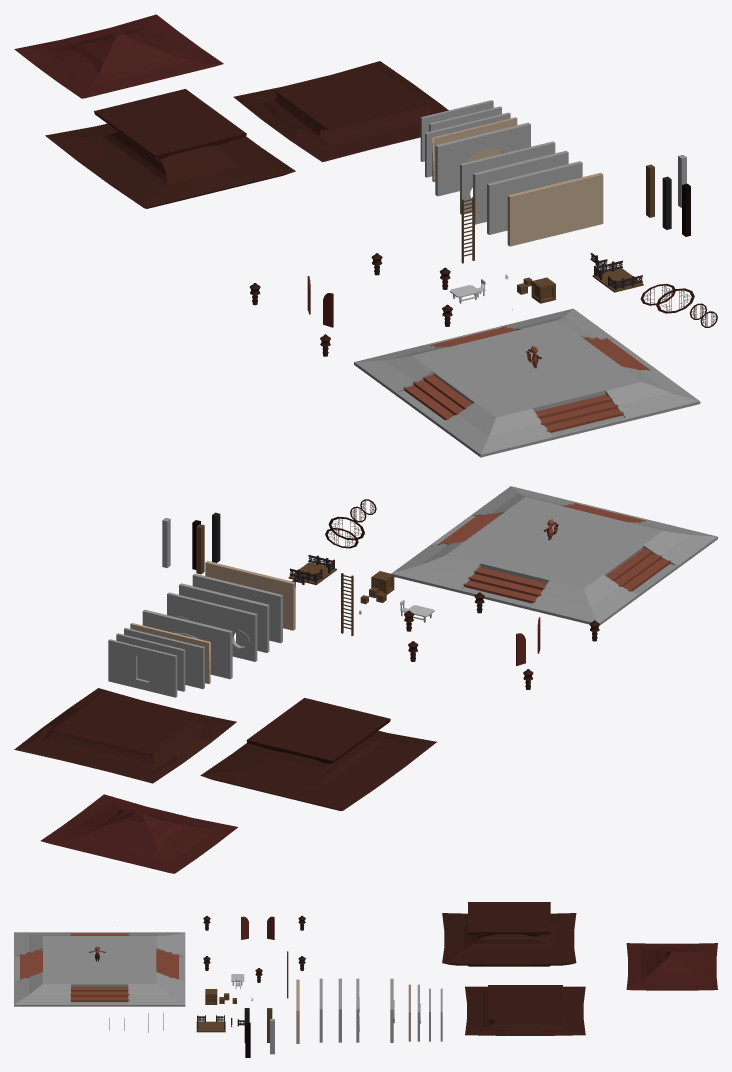
Rendered from Building_windows.fbx.
3 views of the same model, one above another, from view 1: azimuth 30°, elevation 25°; view 2: azimuth 150°, elevation 25°; view 3: azimuth 270°, elevation 25° (orthographic). The views are drawn at different scales.
Parts seen in each view (by area): view 1: Cube, Cube.005, Cube.006, Cube.008, Plane.002, Plane.004, Plane.005, Plane.010, Plane, Plane.012, Plane.011, Plane.001; view 2: Cube, Cube.005, Cube.006, Cube.008, Plane.001, Plane, Plane.004, Plane.002, Plane.010, Plane.005, Plane.011, Plane.013 (+2 smaller); view 3: Cube, Cube.005, Cube.006, Cube.008, Plane.003, Cube.001, Cylinder.001, Plane.004.
Boxes of the visible parts, left/top/right/bottom form: Cube: left=354, top=308, right=700, bottom=457; Cube.005: left=45, top=89, right=295, bottom=208; Cube.006: left=233, top=61, right=448, bottom=162; Cube.008: left=14, top=14, right=223, bottom=98; Plane.002: left=507, top=172, right=603, bottom=246; Plane.004: left=435, top=122, right=530, bottom=196; Plane.005: left=487, top=161, right=582, bottom=234; Plane.010: left=473, top=150, right=568, bottom=224; Plane: left=460, top=141, right=555, bottom=214; Plane.012: left=432, top=117, right=517, bottom=181; Plane.011: left=425, top=112, right=510, bottom=177; Plane.001: left=420, top=100, right=493, bottom=161; Cube: left=391, top=486, right=717, bottom=625; Cube.005: left=200, top=698, right=436, bottom=810; Cube.006: left=14, top=688, right=236, bottom=783; Cube.008: left=41, top=794, right=238, bottom=873; Plane.001: left=108, top=639, right=177, bottom=697; Plane: left=167, top=592, right=257, bottom=661; Plane.004: left=142, top=609, right=232, bottom=679; Plane.002: left=205, top=561, right=295, bottom=630; Plane.010: left=179, top=583, right=269, bottom=652; Plane.005: left=192, top=573, right=282, bottom=643; Plane.011: left=124, top=627, right=204, bottom=688; Plane.013: left=116, top=633, right=185, bottom=691; Cube: left=14, top=932, right=185, bottom=1006; Cube.005: left=442, top=902, right=576, bottom=966; Cube.006: left=465, top=985, right=585, bottom=1035; Cube.008: left=626, top=943, right=717, bottom=990; Plane.003: left=241, top=916, right=274, bottom=939; Cube.001: left=196, top=1021, right=225, bottom=1032; Cylinder.001: left=203, top=915, right=305, bottom=970; Plane.004: left=390, top=978, right=394, bottom=1042.
Bounding box in the file's own units: 11492 × 1763 × 24983.
